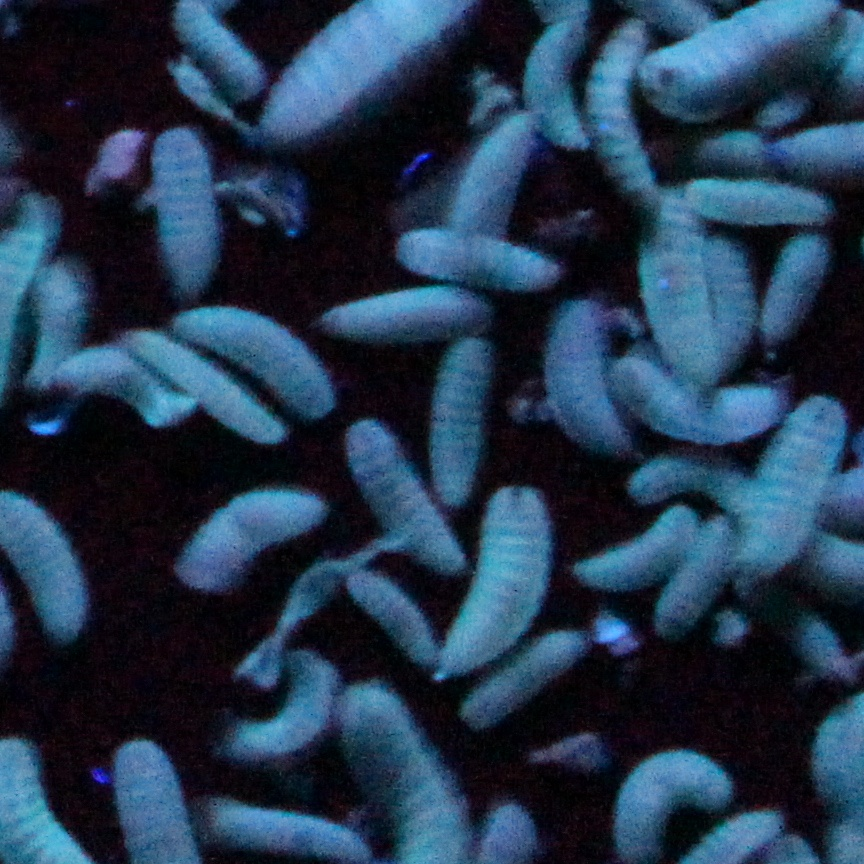larve: (336, 683, 481, 858), (446, 458, 551, 680), (333, 415, 461, 575), (746, 380, 843, 588), (163, 298, 323, 418), (633, 180, 723, 390), (133, 320, 291, 430), (176, 478, 321, 585), (546, 293, 633, 460), (616, 740, 733, 863), (418, 338, 498, 508), (108, 733, 211, 860), (146, 133, 233, 283), (441, 98, 536, 235), (48, 343, 183, 433), (226, 783, 376, 860), (238, 643, 331, 763), (401, 220, 558, 290), (696, 163, 836, 238), (463, 638, 583, 723), (578, 510, 696, 590), (768, 238, 833, 365), (323, 295, 496, 338), (658, 525, 728, 628), (708, 240, 758, 373), (478, 783, 548, 853), (693, 810, 798, 850)
